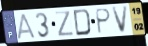3: (35, 12, 51, 39)
A: (17, 13, 37, 40)
D: (72, 8, 92, 38)
P: (95, 7, 112, 35)
V: (111, 4, 130, 35)
Z: (54, 10, 76, 38)
